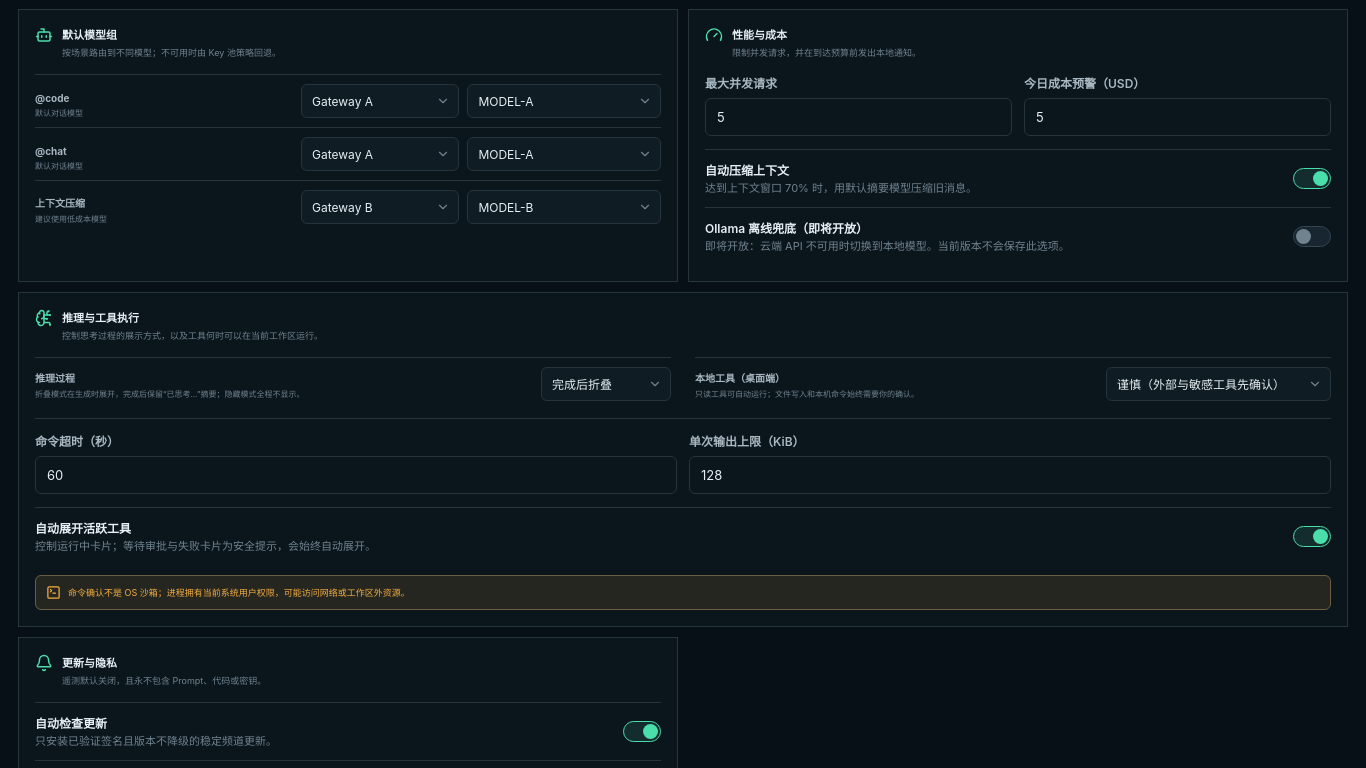
Scenario: SettingsPage › 保存推理和工具策略，并在禁用工具后隐藏安全说明
(page scrolled)
Select "始终隐藏" in the dropdown named "推理过程显示方式" at (606, 384), box [541,367,671,401]
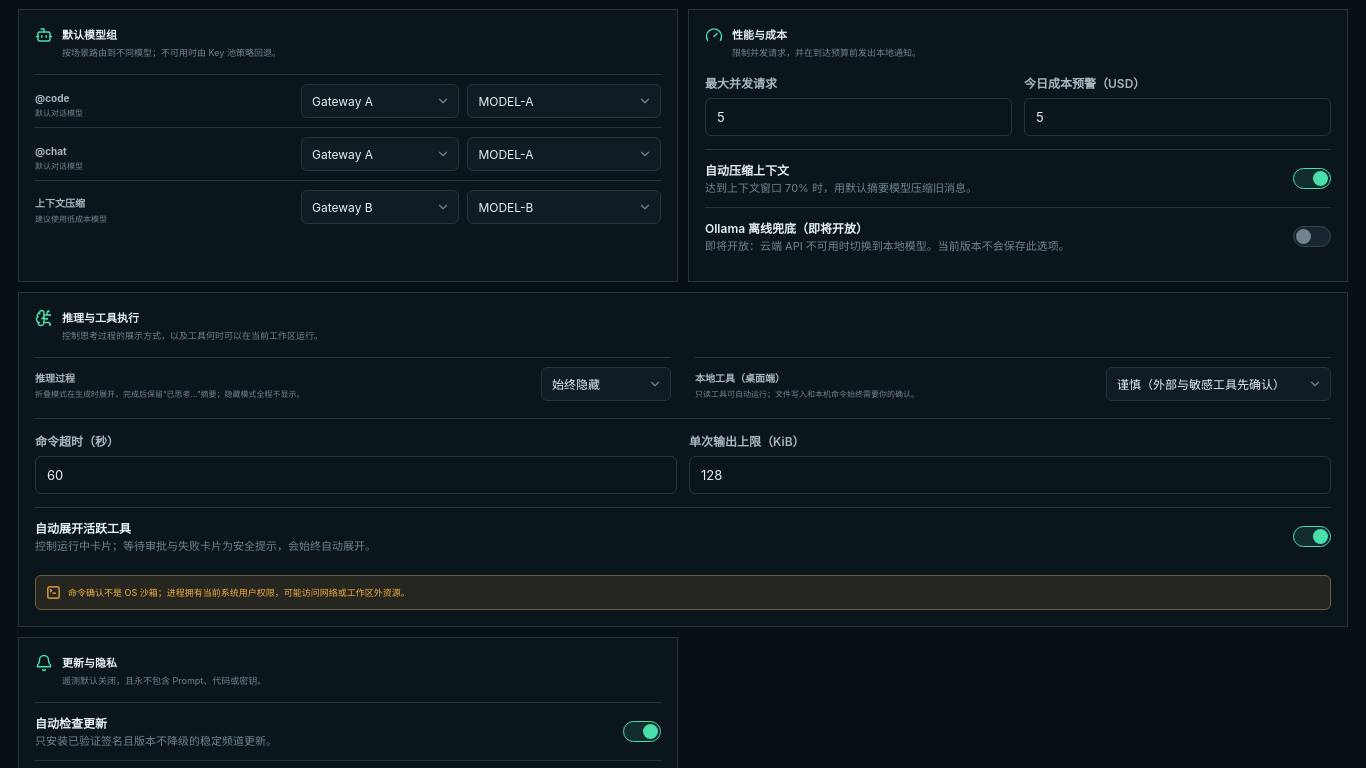
Expected: the text "命令确认不是 OS 沙箱；进程拥有当前系统用户权限，可能访问网络或工作区外资源。" is shown, [35,575,1331,610]
Select "禁用工具" in the dropdown labelled "本地工具" at (1218, 384), box [1106,367,1331,401]
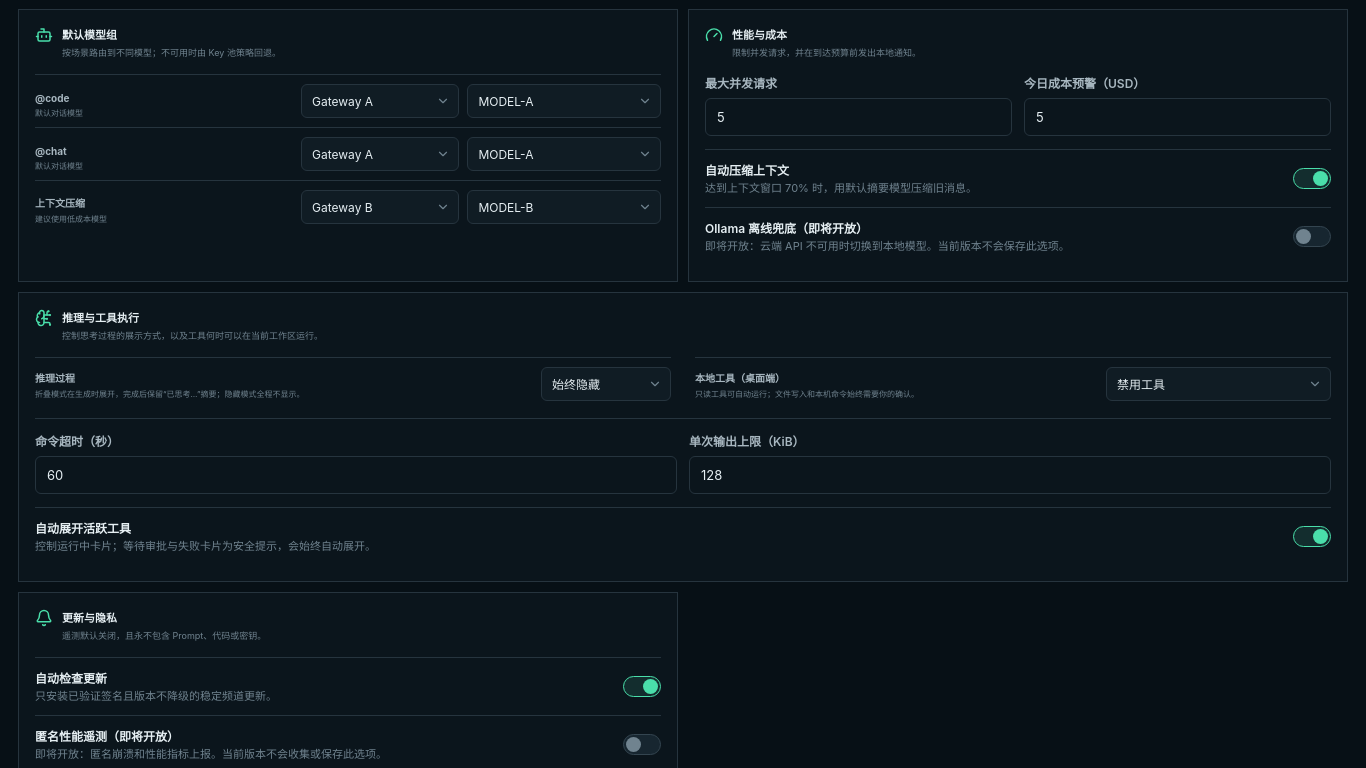
Now the text "命令确认不是 OS 沙箱" is gone
